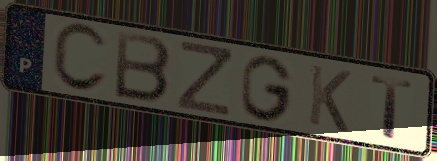B: (112, 27, 174, 106)
C: (49, 21, 110, 96)
G: (239, 53, 296, 123)
K: (306, 62, 354, 136)
T: (369, 73, 417, 142)
Z: (174, 38, 234, 119)
